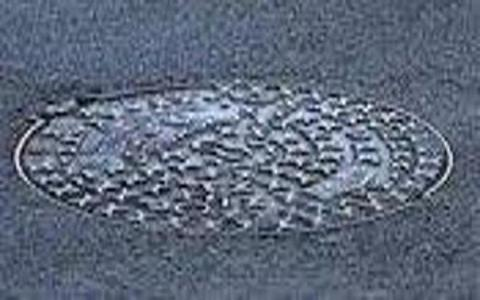proper manhole: (1, 48, 455, 242)
